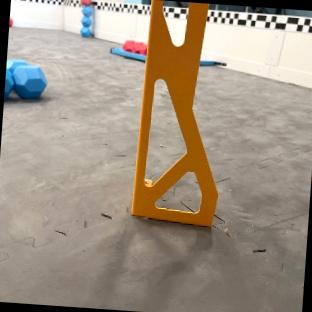V5_BLUE: (4, 58, 46, 98), (81, 6, 91, 35)
V5_RED: (123, 39, 147, 53), (80, 0, 90, 4)
